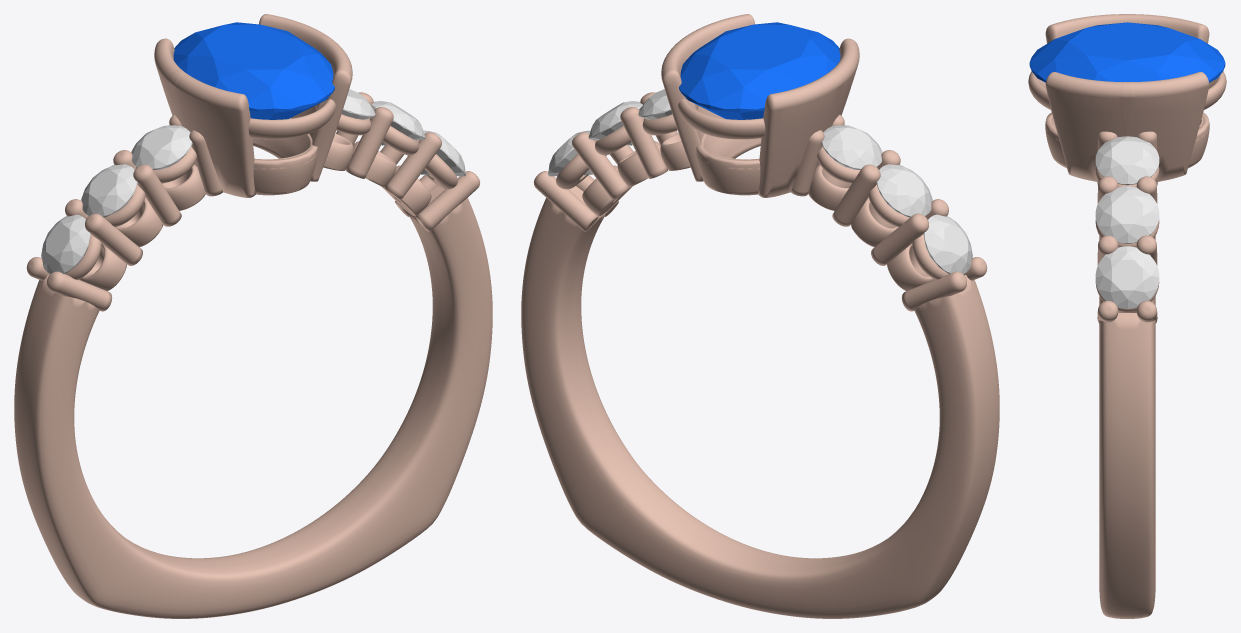
Rendered from bluesapphire-oval-rosegold-halfmoonbezel-europeanshank-7stone.glb.
3 renders of one model, left to right at view 1: azimuth 30°, elevation 25°; view 2: azimuth 150°, elevation 25°; view 3: azimuth 270°, elevation 25°, orthographic. The views are drawn at different scales.
Visible parts, largest first — view 1: metal, stone.003, side.006, side.007, side.008, side.010, side.011, side.009; view 2: metal, stone.003, side.006, side.007, side.008, side.010, side.011, side.009; view 3: metal, stone.003, side.009, side.010, side.011.
Boxes of the visible parts, x1=… form: metal: x1=14, y1=14, x2=492, y2=618; stone.003: x1=173, y1=22, x2=334, y2=119; side.006: x1=41, y1=214, x2=90, y2=273; side.007: x1=81, y1=164, x2=137, y2=217; side.008: x1=131, y1=125, x2=192, y2=169; side.010: x1=371, y1=101, x2=425, y2=145; side.011: x1=341, y1=89, x2=375, y2=119; side.009: x1=421, y1=130, x2=465, y2=176; metal: x1=521, y1=14, x2=999, y2=618; stone.003: x1=679, y1=22, x2=840, y2=119; side.006: x1=923, y1=214, x2=972, y2=273; side.007: x1=876, y1=164, x2=932, y2=217; side.008: x1=821, y1=125, x2=882, y2=169; side.010: x1=588, y1=101, x2=642, y2=145; side.011: x1=638, y1=89, x2=672, y2=119; side.009: x1=548, y1=130, x2=592, y2=176; metal: x1=1028, y1=14, x2=1226, y2=618; stone.003: x1=1029, y1=22, x2=1225, y2=82; side.009: x1=1095, y1=246, x2=1159, y2=308; side.010: x1=1095, y1=186, x2=1159, y2=243; side.011: x1=1095, y1=136, x2=1159, y2=185.
Bounding box in the file's own units: 20.11 × 23.2 × 7.75.
